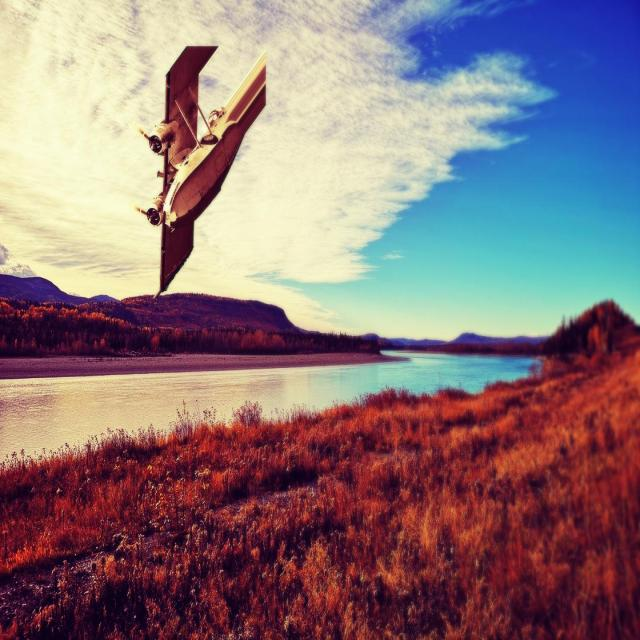airplane: (133, 43, 267, 298)
